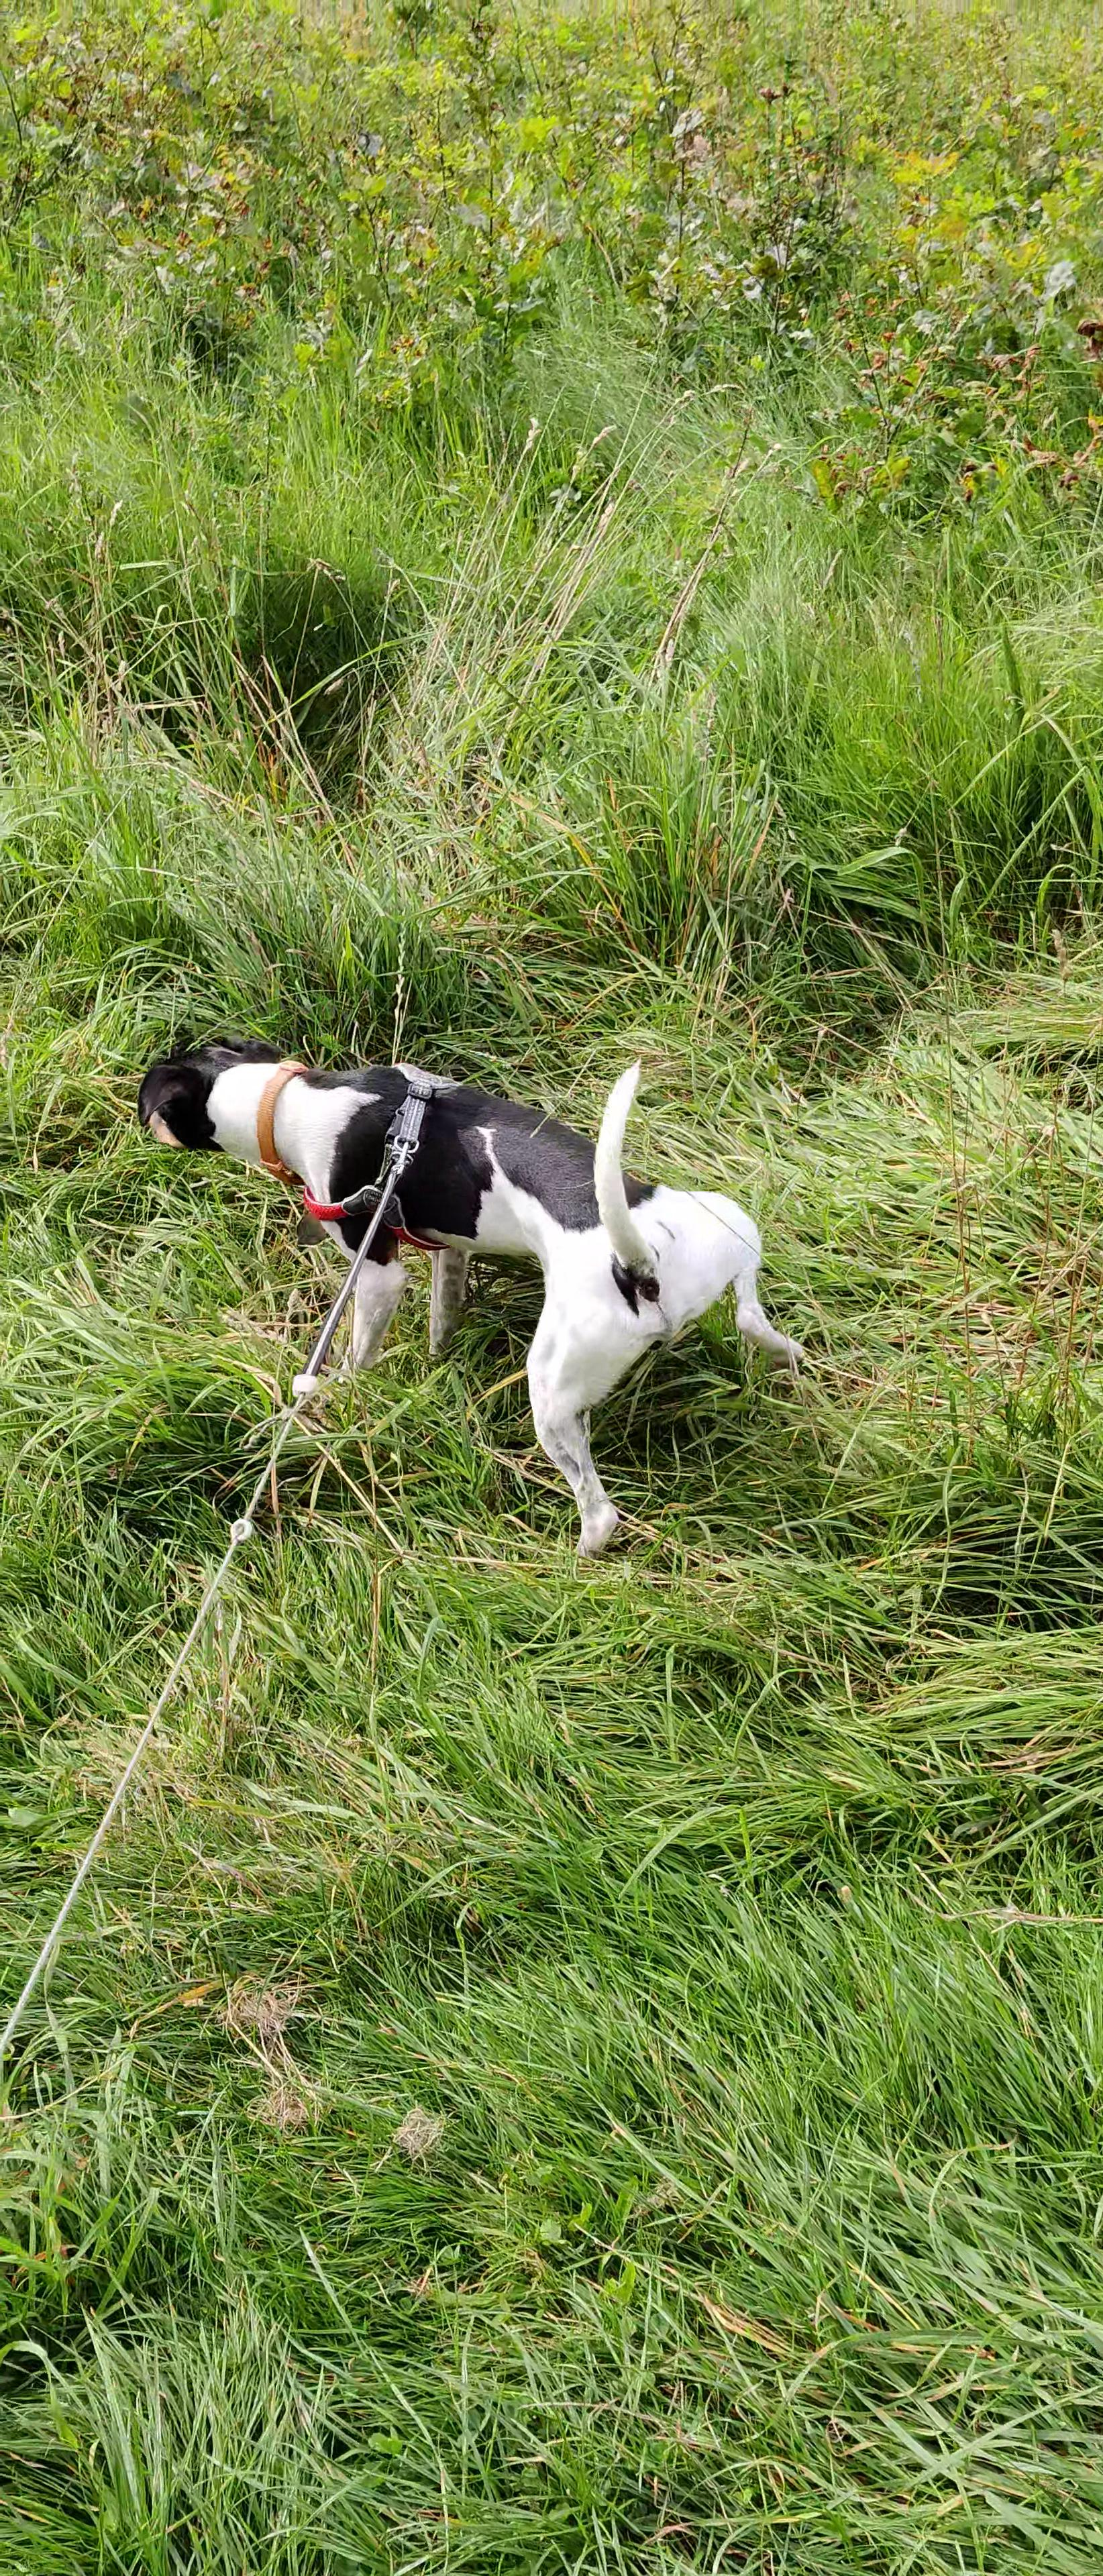Dog: (125, 1025, 814, 1556)
